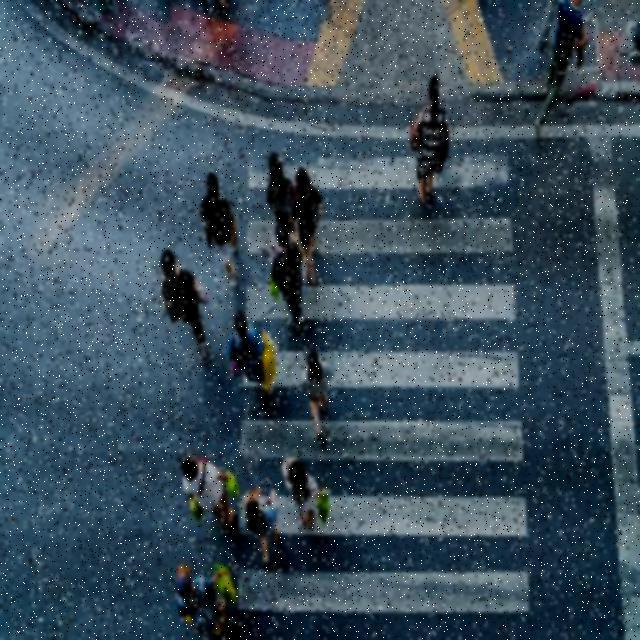Pedestrian crosswalk: (187, 91, 558, 639)
